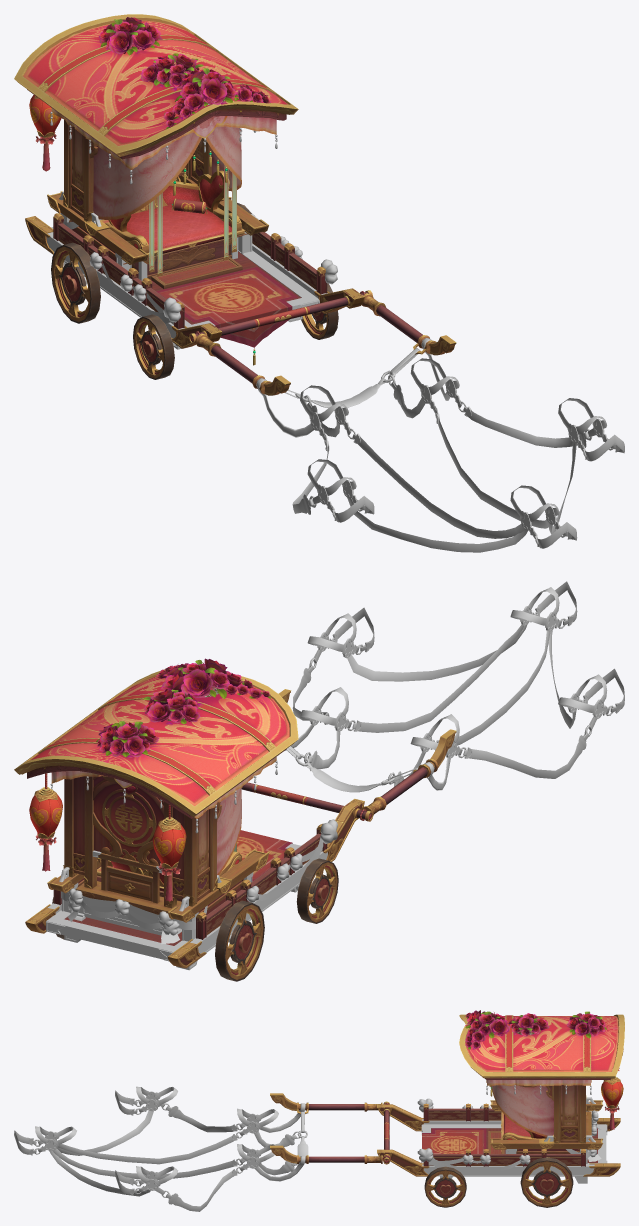
The model's file is test_hunche_02.FBX.
3 renders of one model, top to bottom at view 1: azimuth 30°, elevation 25°; view 2: azimuth 150°, elevation 25°; view 3: azimuth 270°, elevation 25°, orthographic. The views are drawn at different scales.
Parts seen in each view (by area): view 1: wedding_hunche_01_01, wedding_hunche_01_02; view 2: wedding_hunche_01_01, wedding_hunche_01_02; view 3: wedding_hunche_01_01, wedding_hunche_01_02.
Part boxes in pixels (x1=…): wedding_hunche_01_01: x1=14, y1=14, x2=456, y2=395; wedding_hunche_01_02: x1=46, y1=111, x2=624, y2=552; wedding_hunche_01_01: x1=14, y1=658, x2=456, y2=981; wedding_hunche_01_02: x1=46, y1=581, x2=624, y2=970; wedding_hunche_01_01: x1=270, y1=1010, x2=624, y2=1207; wedding_hunche_01_02: x1=14, y1=1085, x2=607, y2=1211.
Bounding box in the file's own units: 733 × 634 × 2077.
